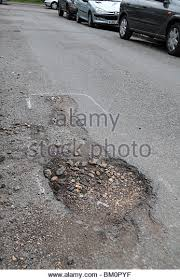pothole: (26, 139, 168, 238)
